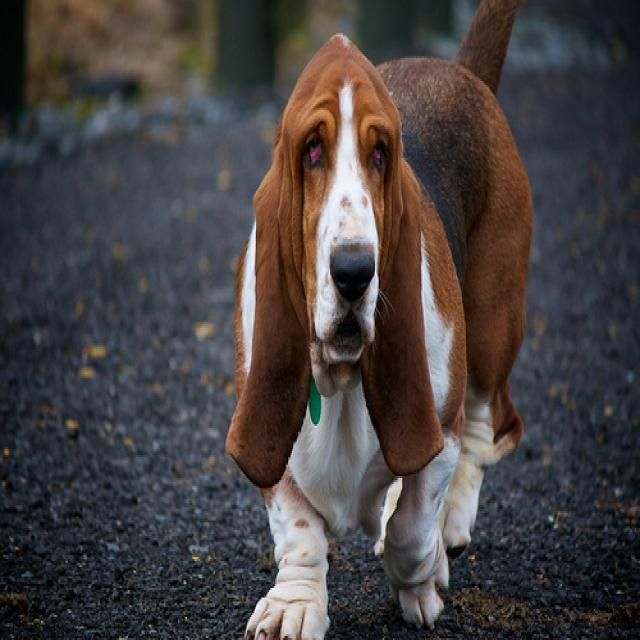dog: (224, 52, 442, 484)
